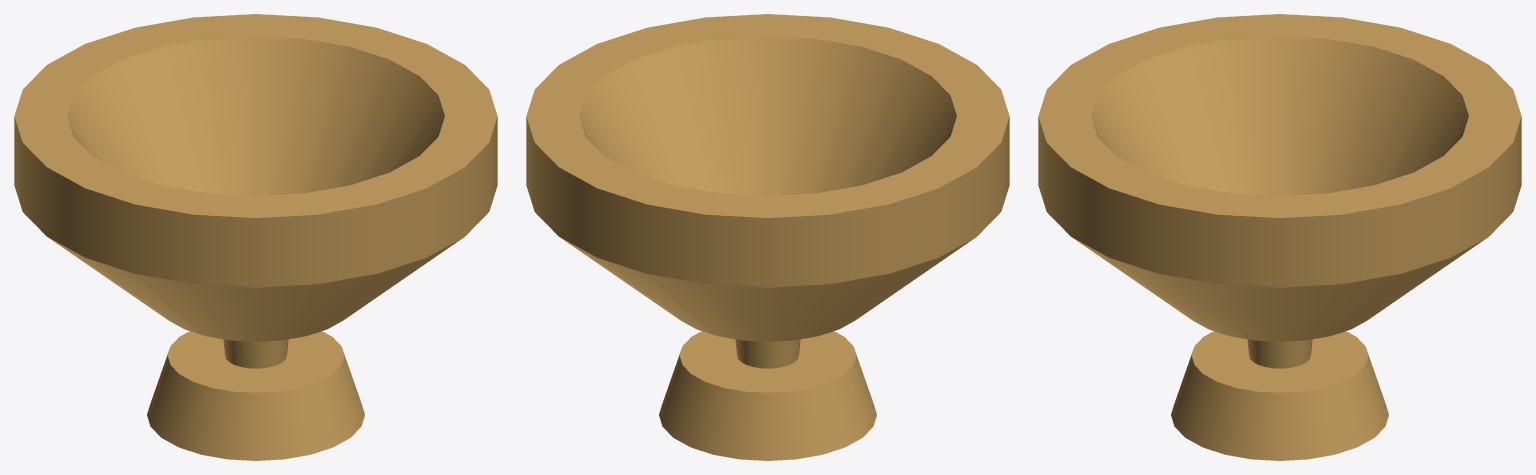
File: detailBowl.fbx
3 renders of one model, left to right at view 1: azimuth 30°, elevation 25°; view 2: azimuth 150°, elevation 25°; view 3: azimuth 270°, elevation 25°, orthographic.
Visible parts, largest first — view 1: detailBowl; view 2: detailBowl; view 3: detailBowl.
Part boxes in pixels (bbox=[...]): detailBowl: bbox=[14, 14, 497, 460]; detailBowl: bbox=[526, 14, 1009, 460]; detailBowl: bbox=[1038, 14, 1521, 460].
Size of the model in its own units: 1.24 by 0.8459 by 1.24.
